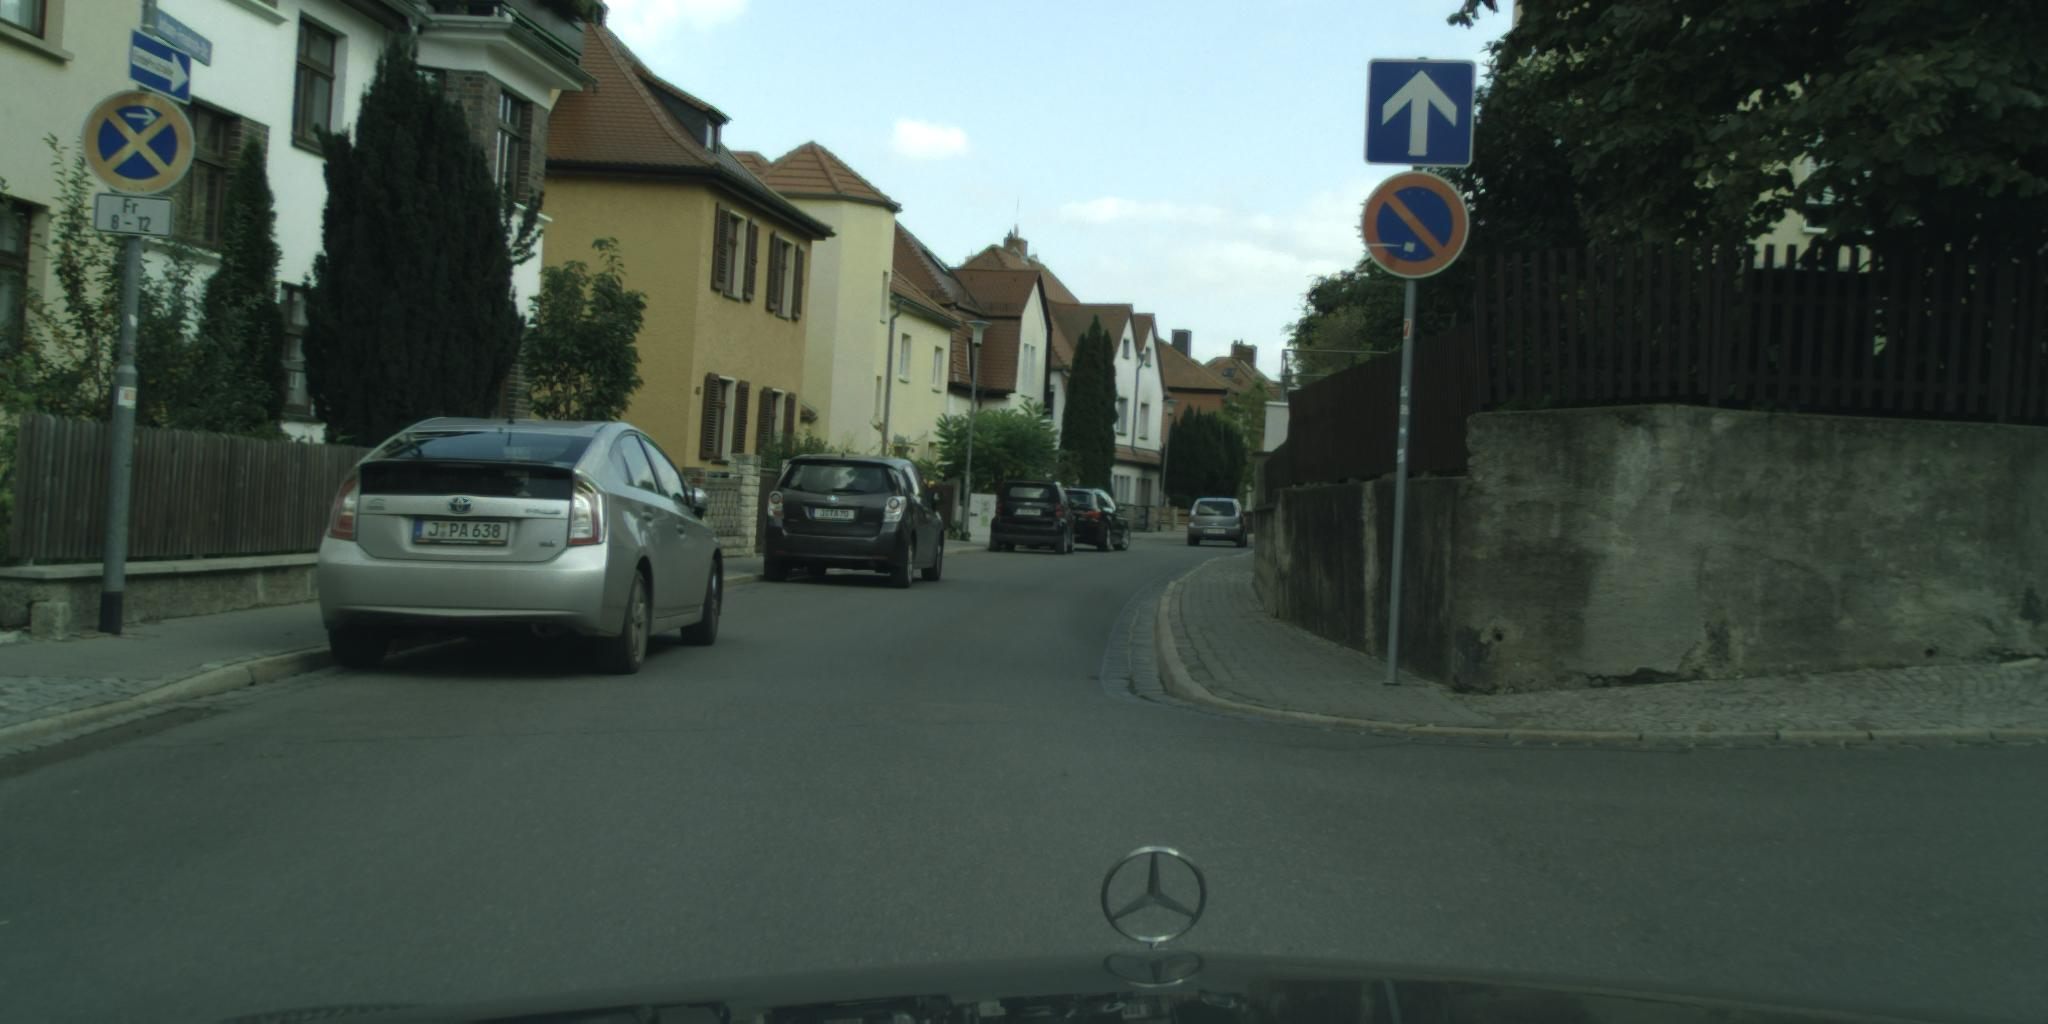car: (319, 417, 726, 675), (765, 453, 948, 590), (989, 479, 1078, 556), (1063, 488, 1132, 554), (1189, 498, 1250, 551)
